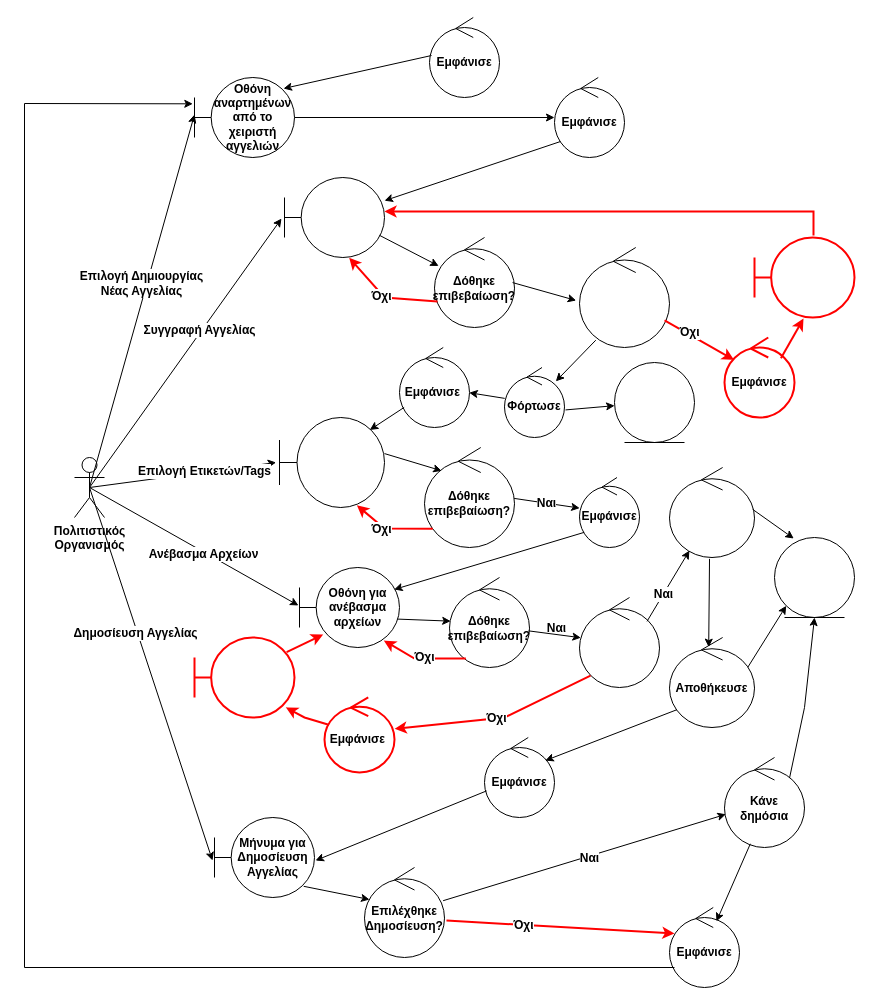
Image size: 873x1005. Some labels were removed from this diagram. Here are the shapes that lost their labels. From the top down, the centre of each, then its label:
(x=334, y=217): Οθόνη συμπλήρωσης στοιχείων αγγελίας
(x=624, y=297): Συμπλήρωση απαιτούμενων στοιχείων?
(x=804, y=277): Μήνυμα Αποτυχίας, Υπογράμμιση Ελλείψεων
(x=654, y=402): Ετικέτες/Tags
(x=331, y=462): Οθόνη επιλογής ετικετών/tags
(x=711, y=512): Δημιούργησε
(x=814, y=577): Αγγελία Εργασίας
(x=619, y=642): Μέγεθος αρχείων εντός ορίων?
(x=244, y=677): Μήνυμα Υπέρβασης Ορίου Μεγέθους Αρχείων
